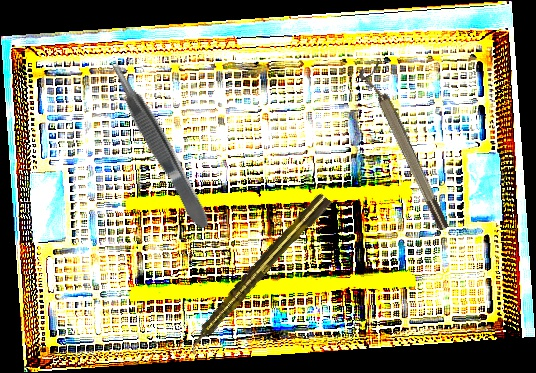Fixation Ring: (356, 61, 453, 236)
Handpiece: (181, 190, 334, 357)
Tissue Forceps: (104, 56, 214, 234)
